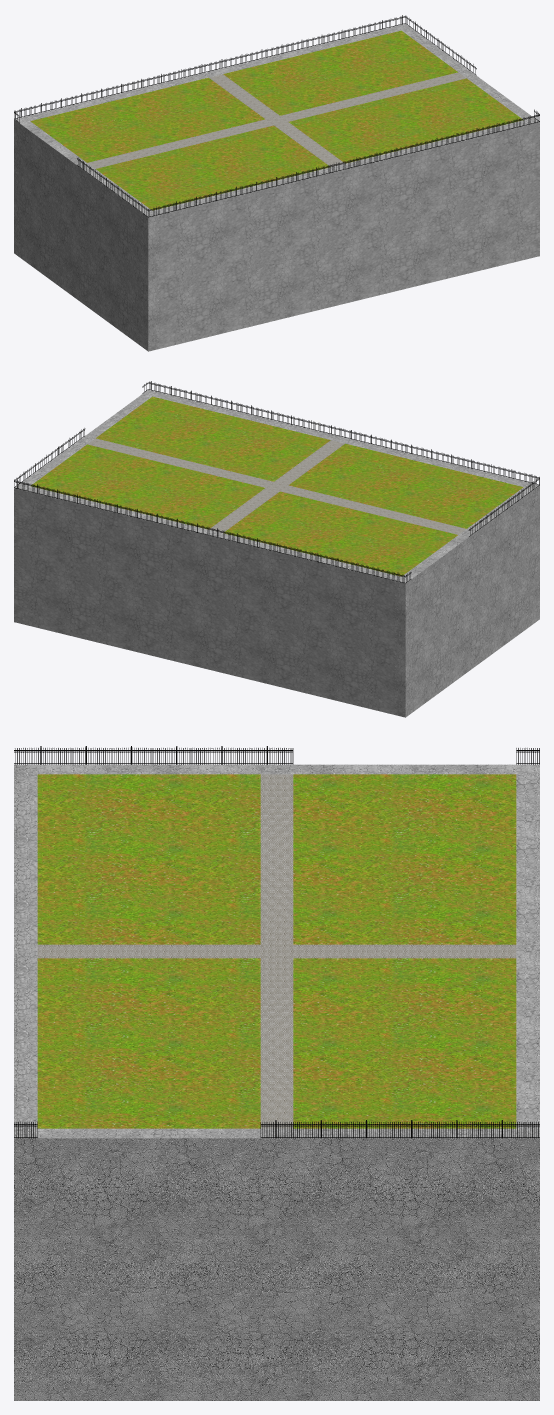
File: playground.fbx
The picture shows the model from 3 angles, top to bottom: view 1: azimuth 30°, elevation 25°; view 2: azimuth 150°, elevation 25°; view 3: azimuth 270°, elevation 25°; orthographic projection. The views are drawn at different scales.
Visible parts, largest first — view 1: Cube; view 2: Cube; view 3: Cube.
Part boxes in pixels (x1=…): Cube: x1=14, y1=15, x2=539, y2=351; Cube: x1=14, y1=381, x2=539, y2=717; Cube: x1=14, y1=746, x2=539, y2=1400.
Size of the model in its own units: 3647 by 1277 by 2168.
